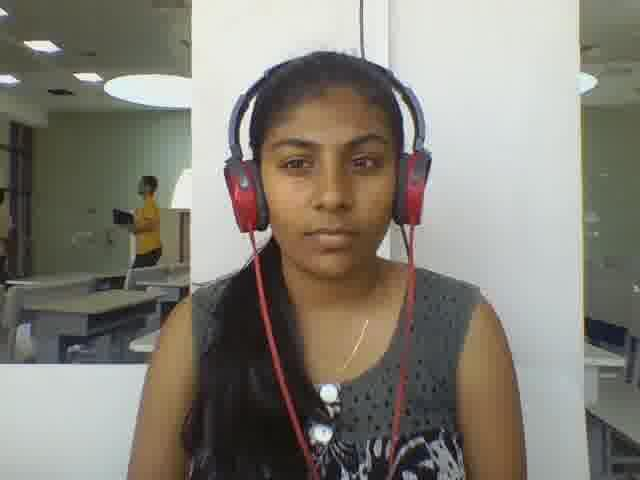bingung: (257, 89, 399, 275)
